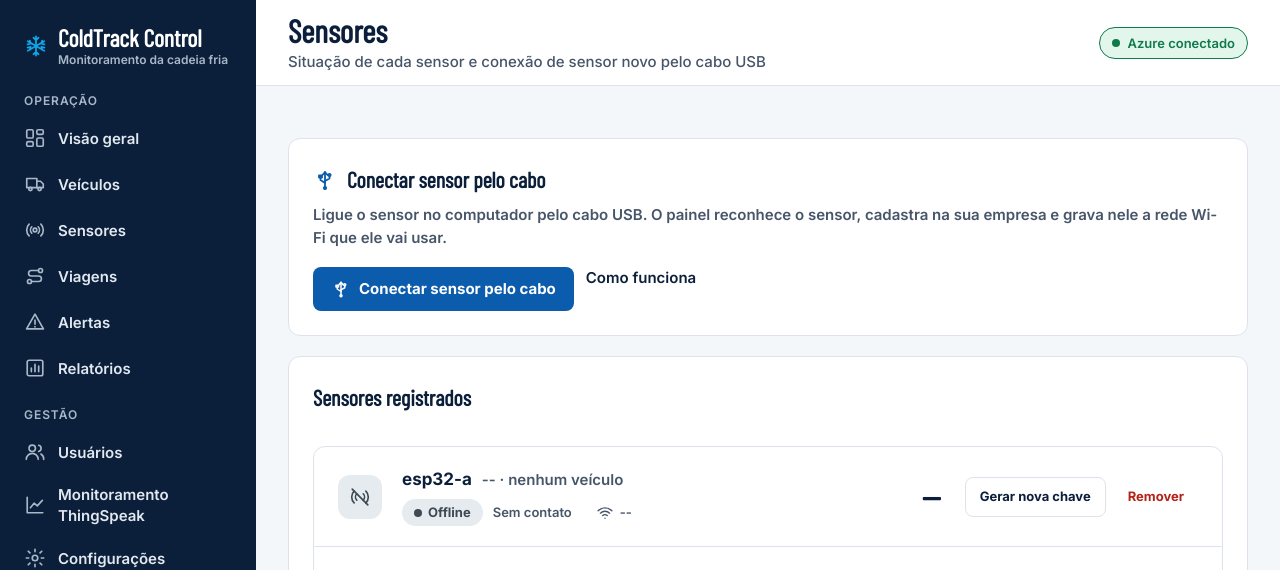
Test: Sensores - conectar pelo cabo › mostrar senha troca o tipo do campo; Cancelar volta ao início e fecha a porta
The image size is (1280, 570).
Click the button "Conectar sensor pelo cabo" at x=443, y=289, box [313,267,574,311]
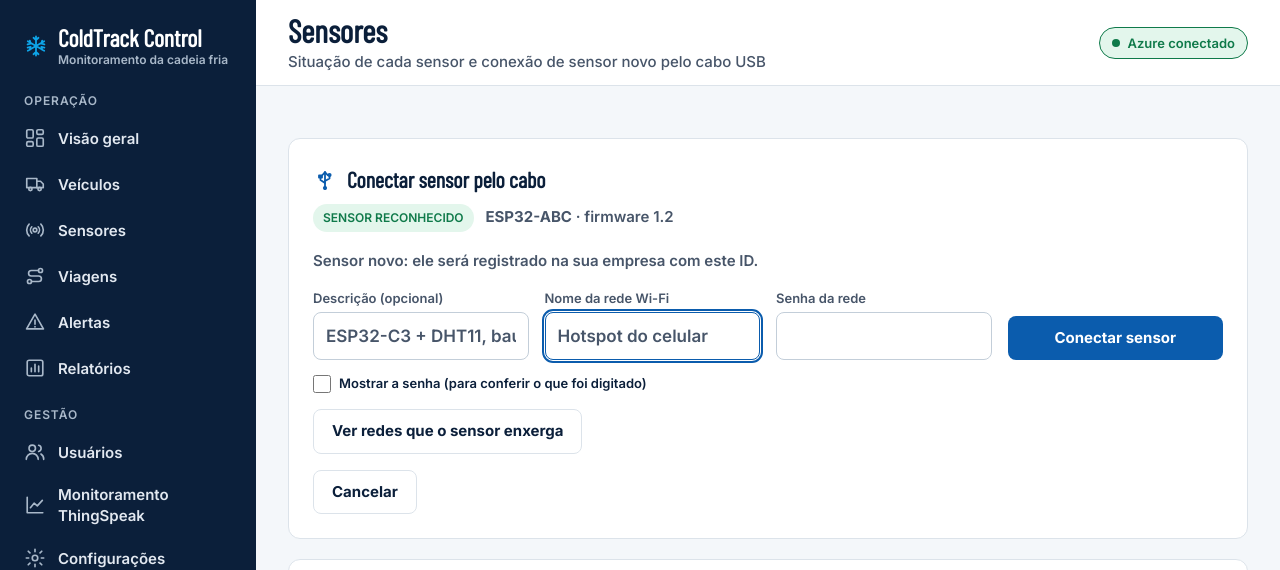
Expected: the text "SENSOR RECONHECIDO" is shown, [313,204,474,232]
Click the checkbox with id "mostrarSenha" at x=322, y=384, box [313,375,331,393]
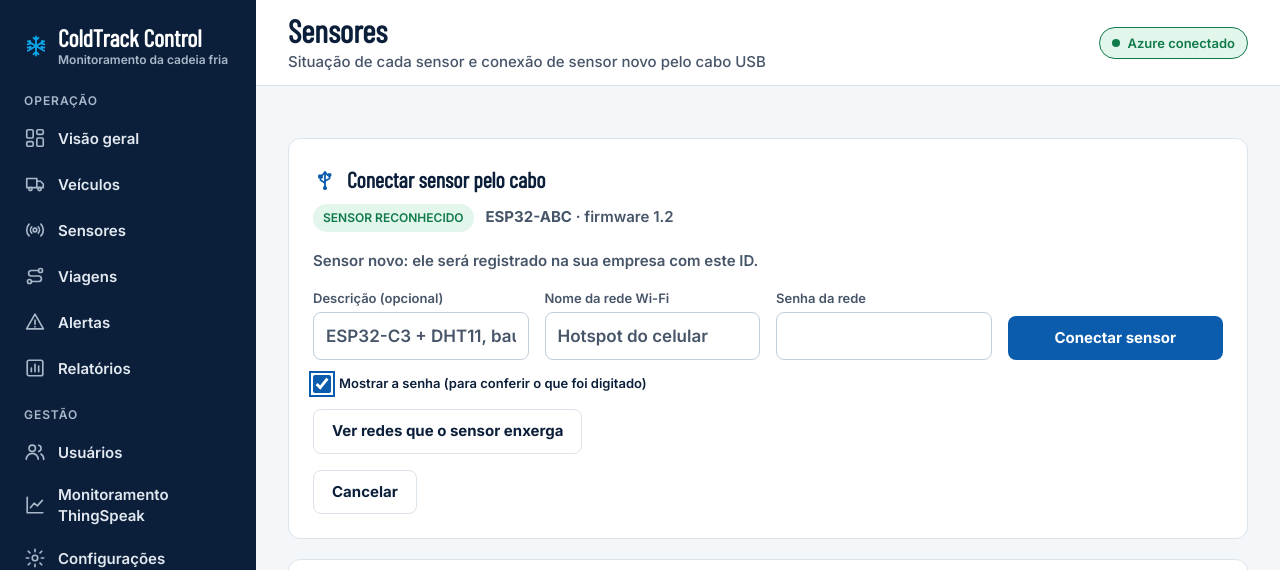
Click the button with id "cancelarCabo" at x=365, y=492, box [313,470,417,514]
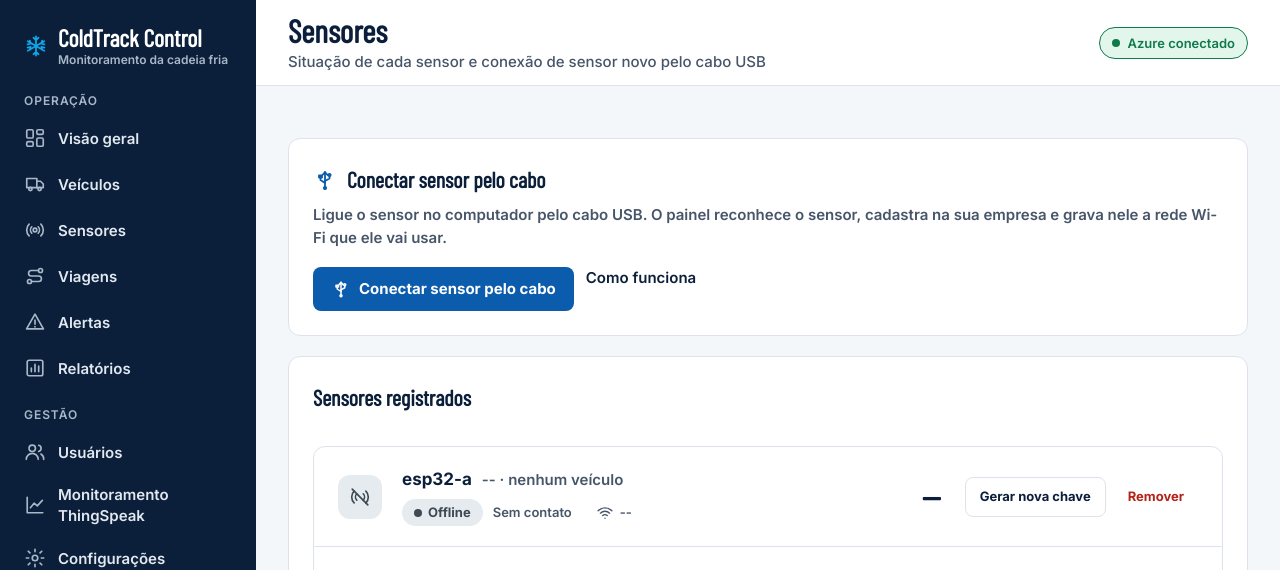
Expected: the button "Conectar sensor pelo cabo" is shown, [313,267,574,311]
